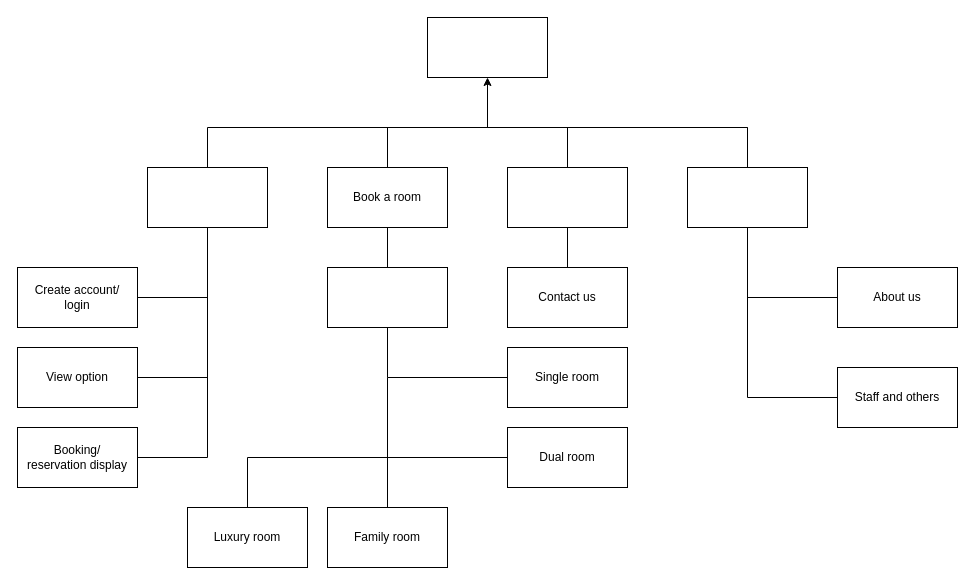
This 975x585 diagram has some shape labels left out. The shapes that lost their labels are listed below. From the top down, each one's centre as x and y in pixels, then its label:
At point (487, 47): "Home".
At point (207, 197): "Login register".
At point (567, 197): "Contact".
At point (747, 197): "Hotel California".
At point (387, 297): "Category/ options".
